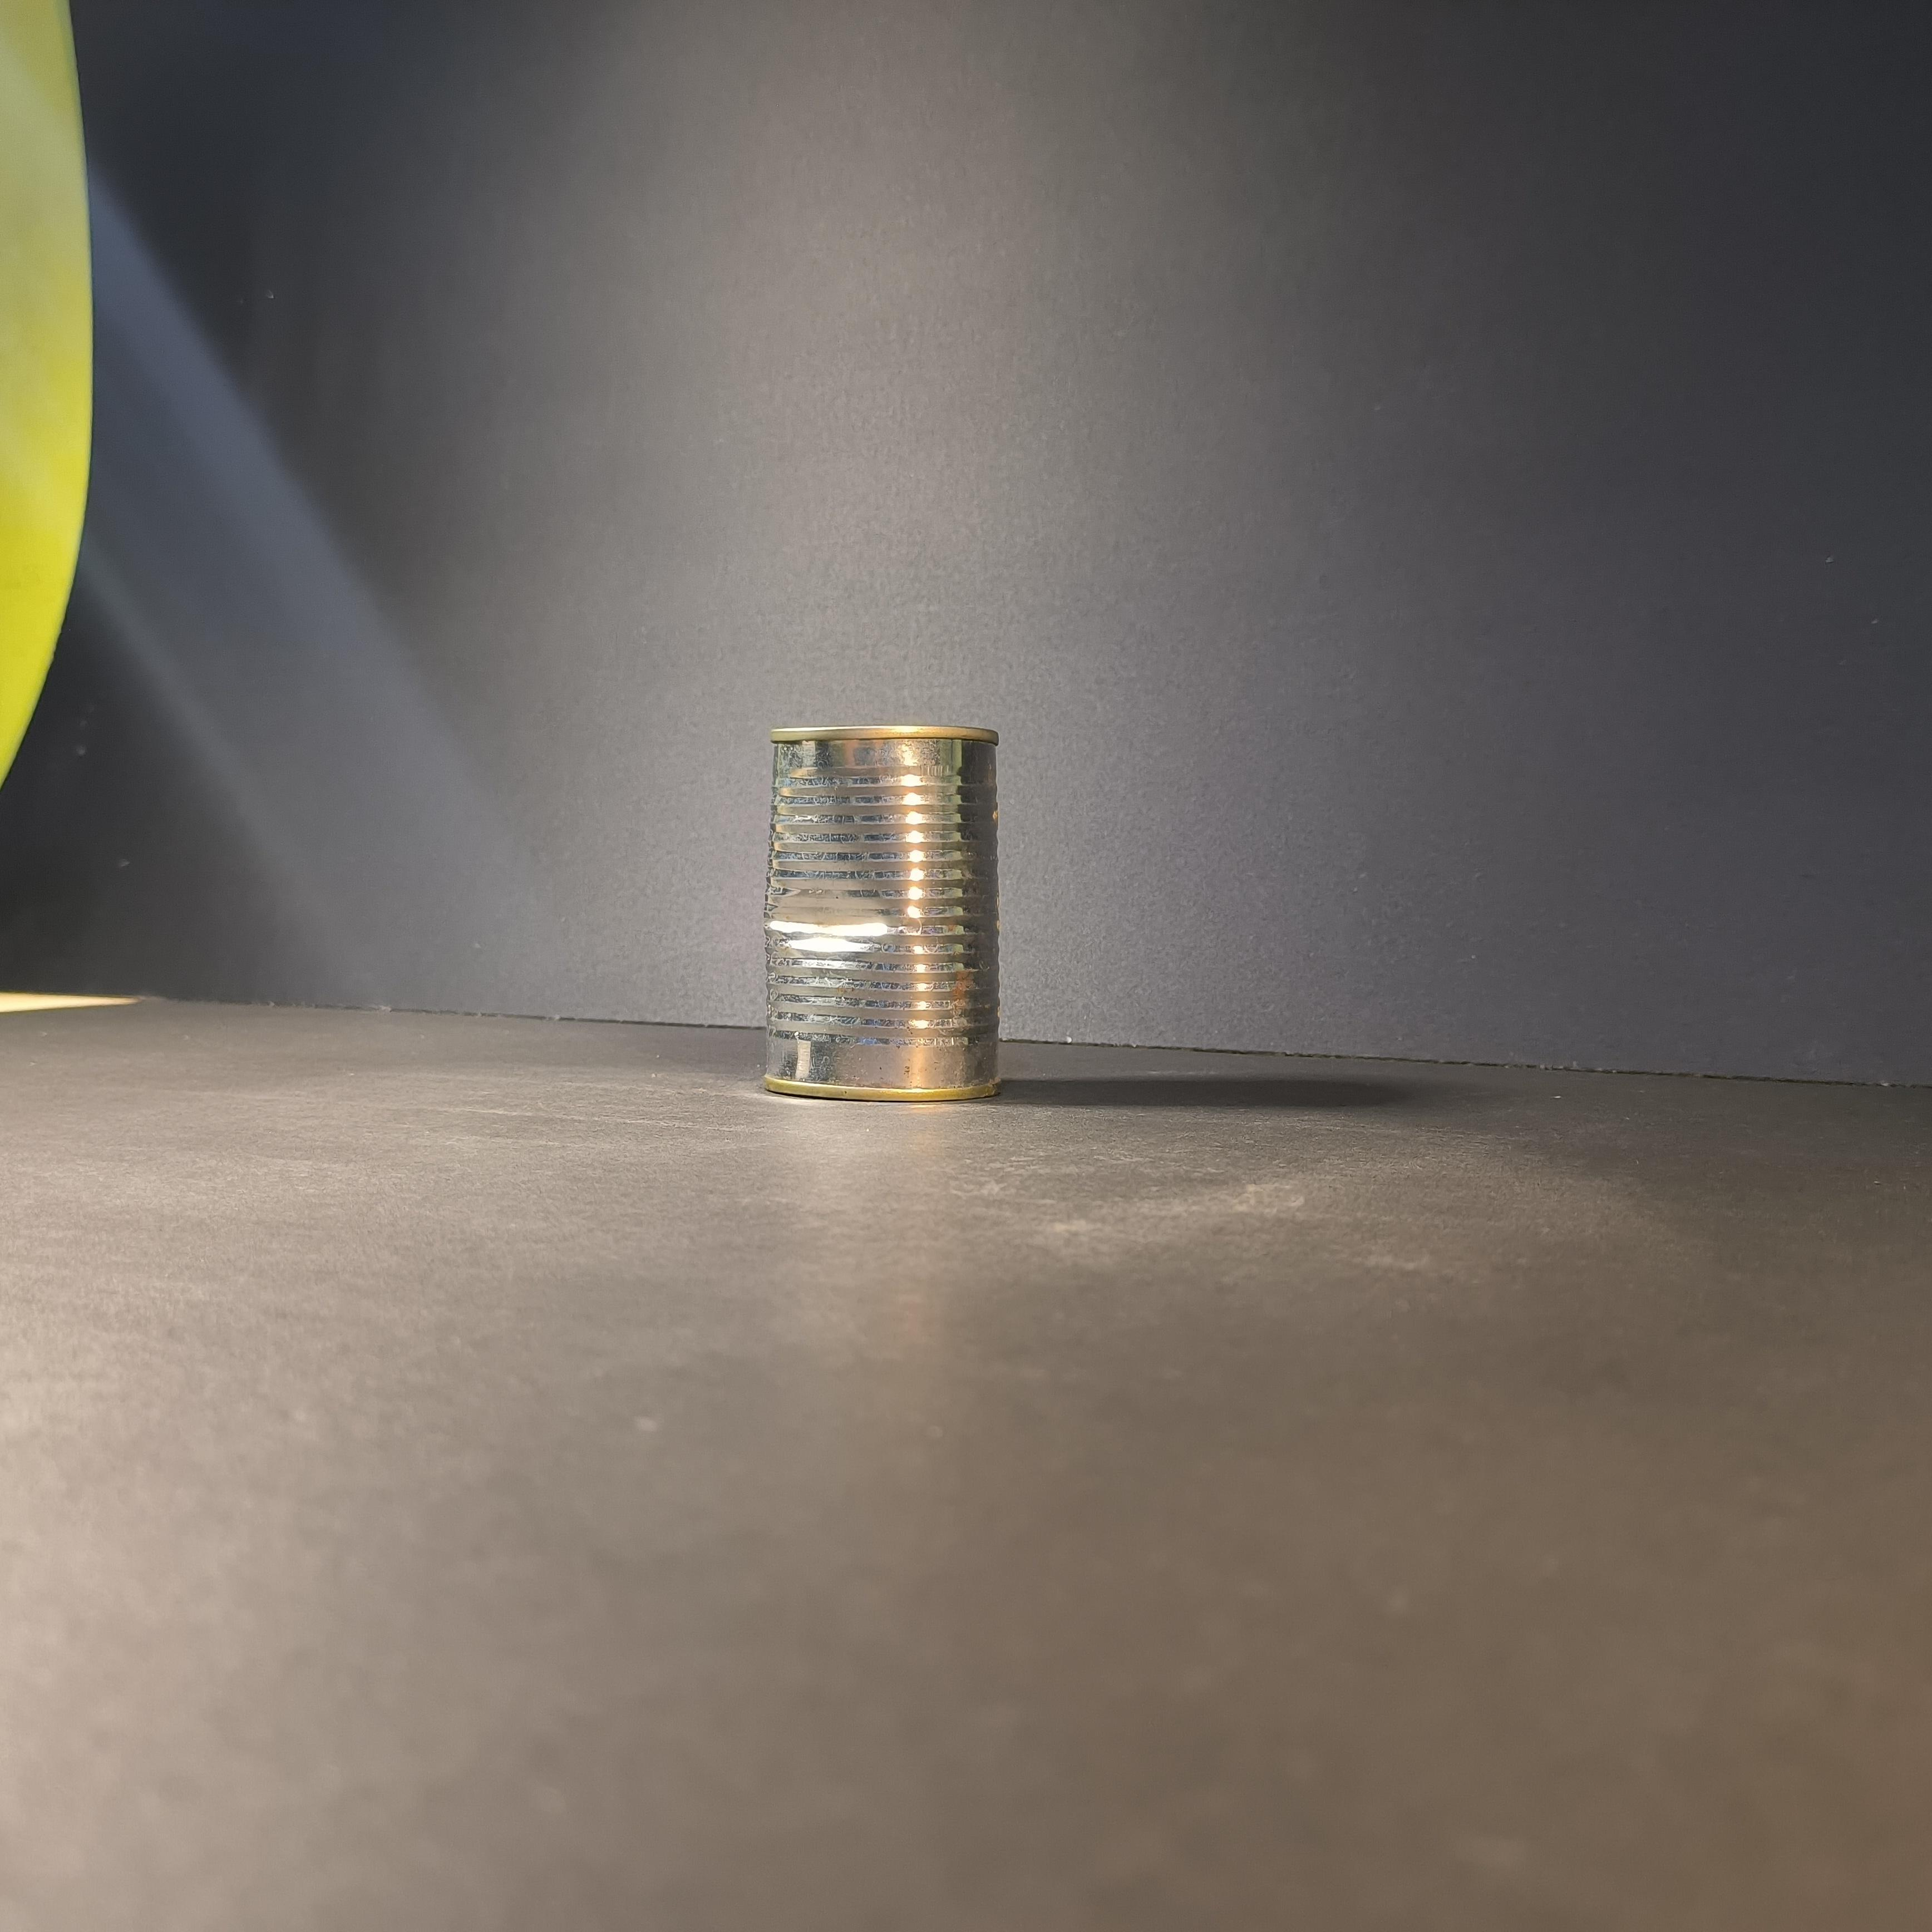Dented: (752, 695, 1019, 1132)
